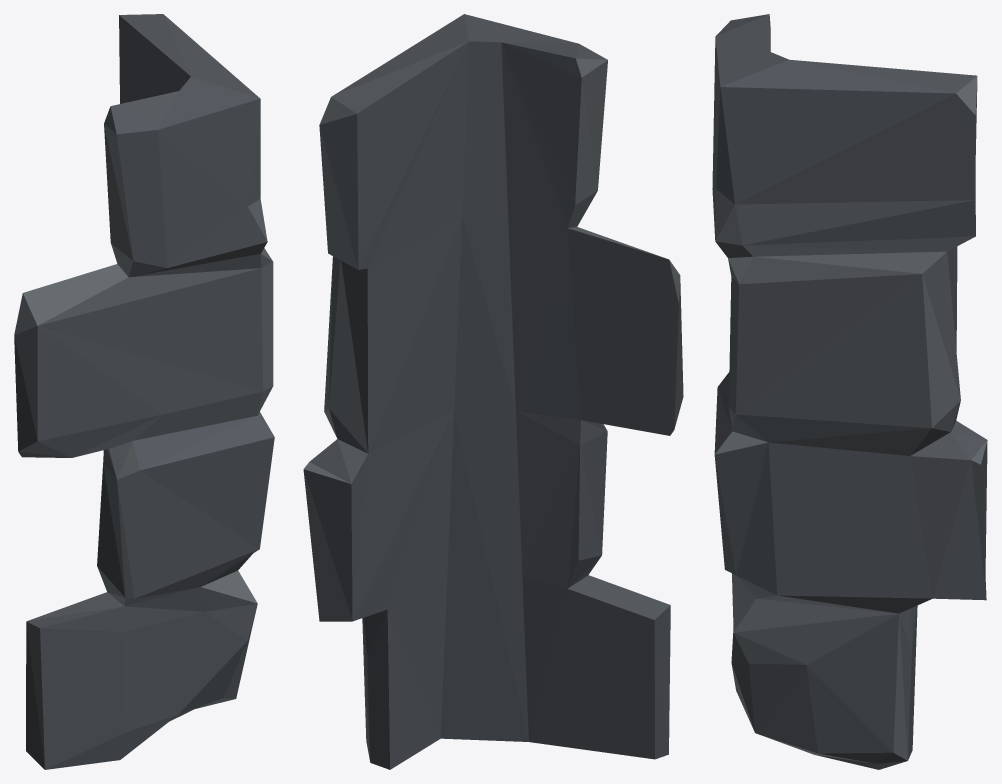
Rendered from MCastle_BrickCorners_03.FBX.
The picture shows the model from 3 angles, left to right: view 1: azimuth 30°, elevation 25°; view 2: azimuth 150°, elevation 25°; view 3: azimuth 270°, elevation 25°; orthographic projection. The views are drawn at different scales.
Visible parts, largest first — view 1: MCastle_BrickCorners_03_LOD0; view 2: MCastle_BrickCorners_03_LOD0; view 3: MCastle_BrickCorners_03_LOD0.
Part boxes in pixels (left/top/right/bottom): MCastle_BrickCorners_03_LOD0: left=14, top=14, right=274, bottom=769; MCastle_BrickCorners_03_LOD0: left=303, top=14, right=683, bottom=769; MCastle_BrickCorners_03_LOD0: left=712, top=14, right=987, bottom=769.
Size of what is drawn, in the model's own units: 1.76 by 4.28 by 1.55.
